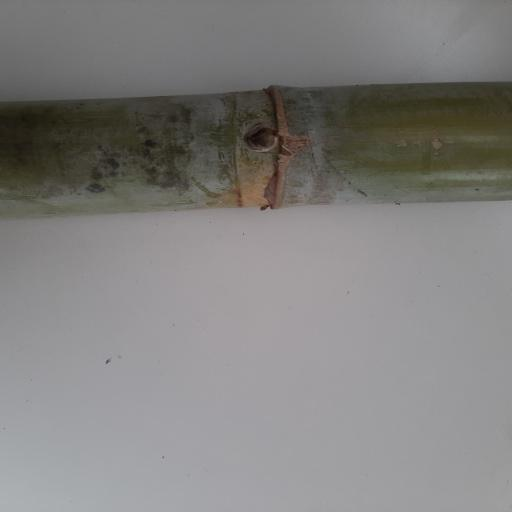Bud: (243, 122, 278, 154)
